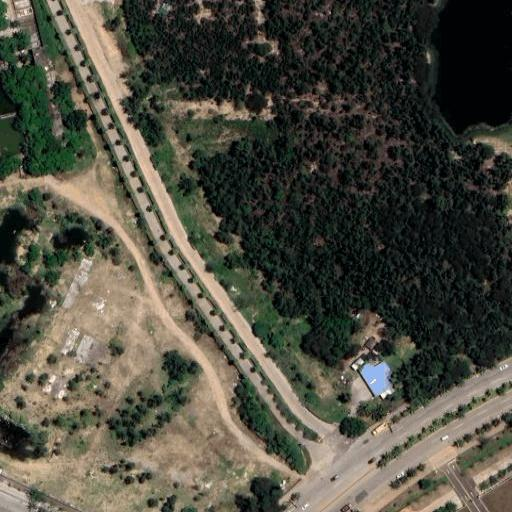building: (358, 364, 384, 397), (0, 488, 27, 512), (370, 363, 392, 391), (36, 68, 54, 97), (41, 95, 59, 120), (32, 47, 49, 71), (157, 1, 172, 17), (351, 356, 365, 370), (379, 386, 394, 399), (365, 338, 377, 350), (379, 360, 390, 373)
